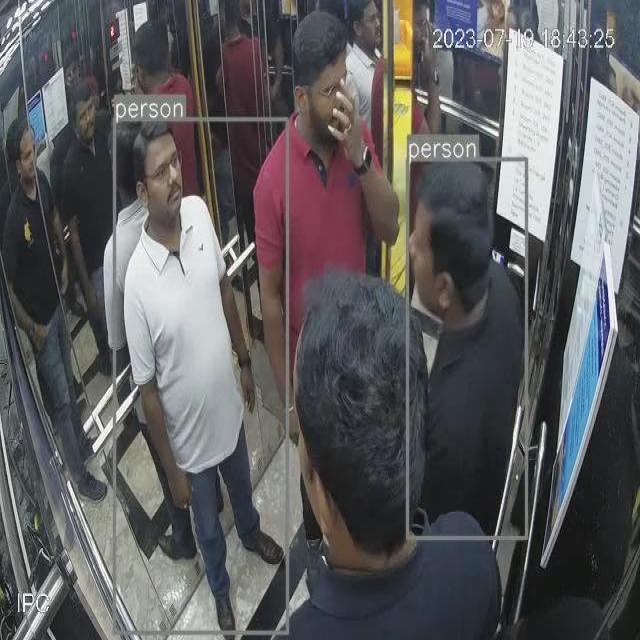person: (114, 123, 289, 633), (279, 278, 509, 640), (409, 159, 527, 537), (252, 4, 410, 281), (0, 121, 107, 503), (61, 76, 119, 380), (123, 20, 202, 220)
